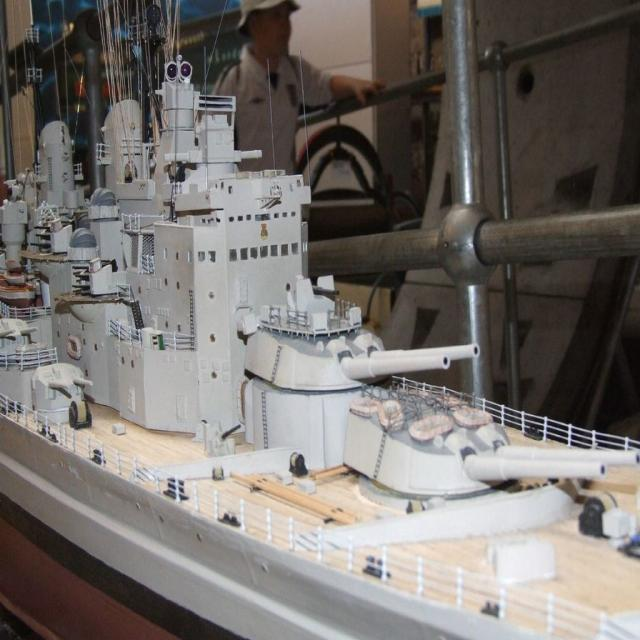Boat: (0, 2, 640, 600)
